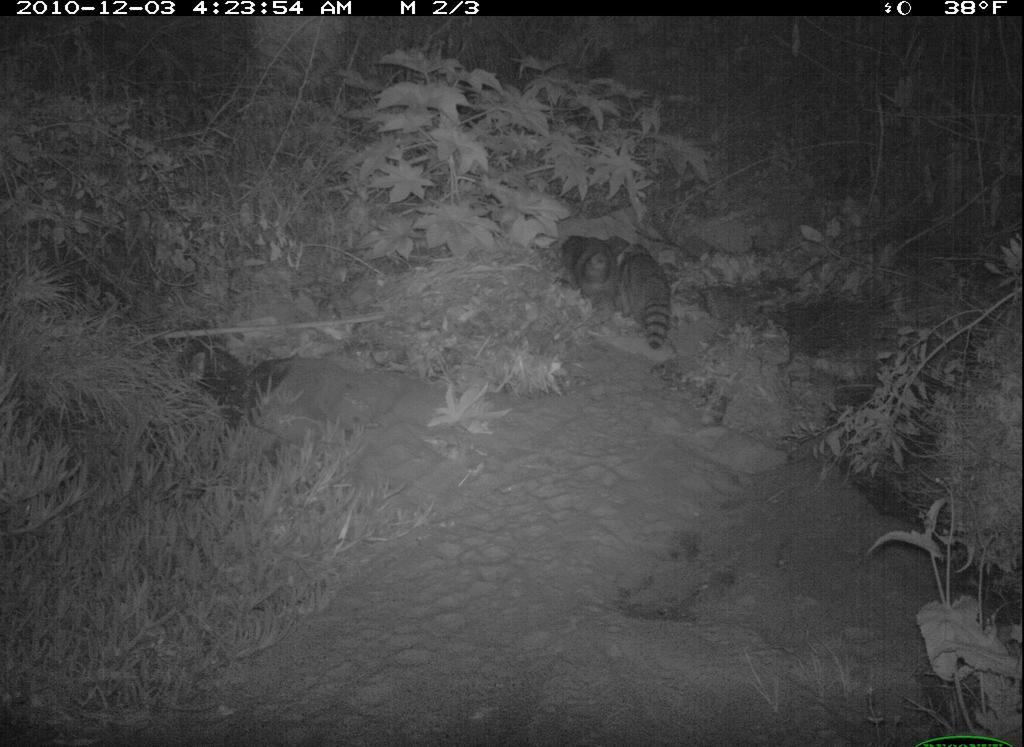raccoon: (553, 222, 688, 359)
